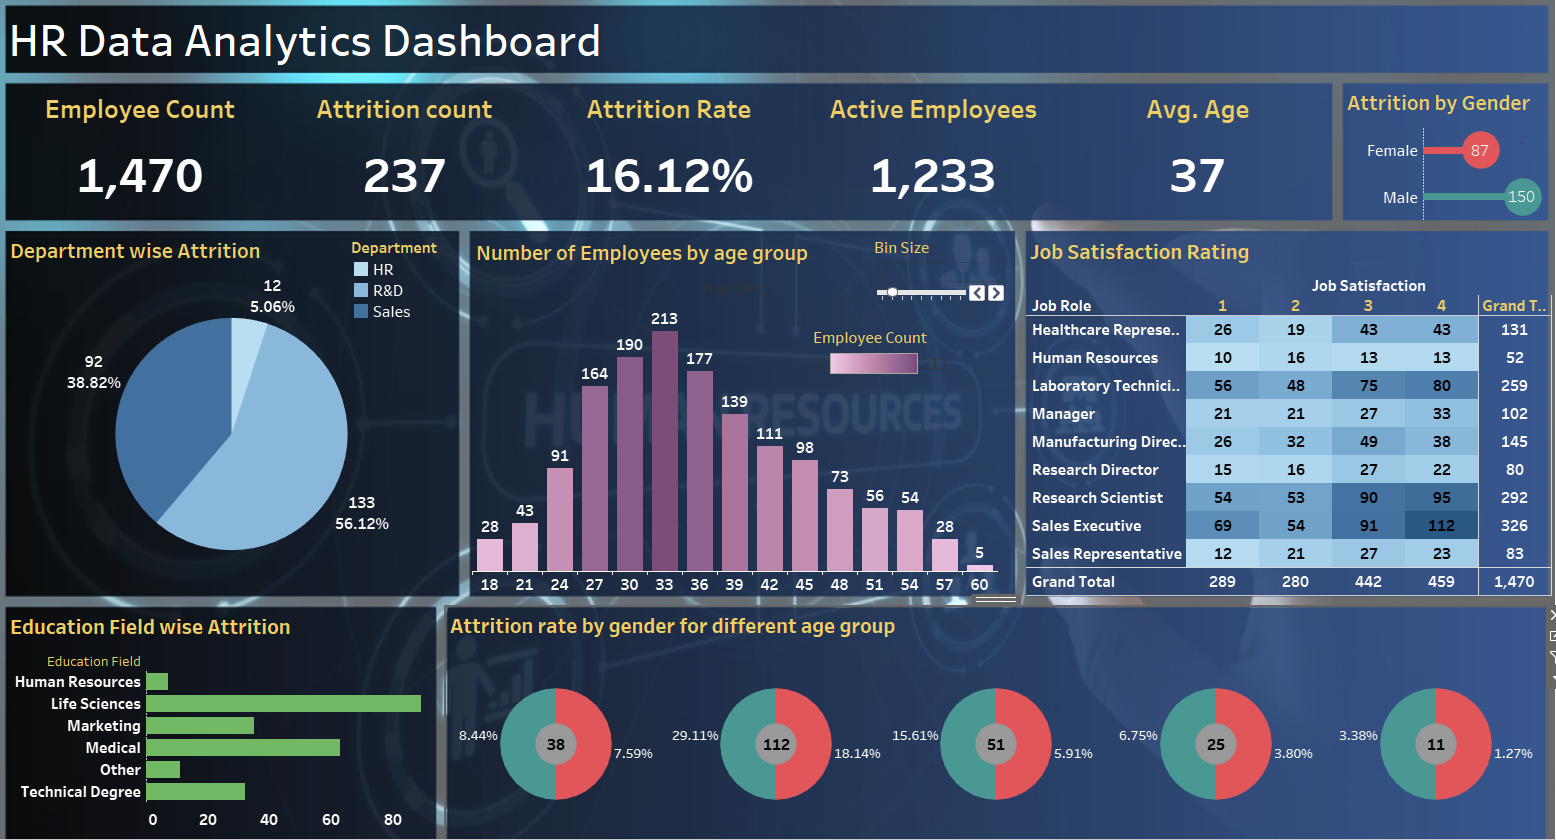

The dashboard page shown, as its layout file describes it:
{"tool":"tableau","page":{"name":"Dashboard 1","canvas":[1580,900],"ordinal":0},"visuals":[{"type":"image","param":"C:/Users/mdabu/Downloads/HR background.pptx.png","box":[8,8,1564,884]},{"type":"text","box":[18,19,1541,65]},{"type":"worksheet","title":"Attrition by gender","mark":"Automatic","rows":["Gender"],"cols":["Calculation_430656729114947584","Calculation_430656729114947584"],"box":[1356,97,204,136]},{"type":"worksheet","title":"KPI","mark":"Automatic","box":[21,98,1322,135]},{"type":"legend","title":"Attrition by gender","param":"[federated.17lfsri08ja5i61fhfss50i6c548].[none:Gender:nk]","box":[1532,147,12,9]},{"type":"worksheet","title":"Department wise Attrition","mark":"Pie","box":[19,245,451,361]},{"type":"worksheet","title":"Job Satisfaction Rating","mark":"Square","rows":["Job Role"],"cols":["Job Satisfaction"],"box":[1039,246,526,363]},{"type":"worksheet","title":"Number of Employees by age group","mark":"Automatic","rows":["Employee Count"],"cols":["Age (bin)"],"box":[485,247,526,362]},{"type":"legend","title":"Department wise Attrition","param":"[federated.17lfsri08ja5i61fhfss50i6c548].[none:Department:nk]","box":[364,250,102,90]},{"type":"parameter","param":"[Parameters].[Parameter 1]","box":[887,250,133,71]},{"type":"legend","title":"Number of Employees by age group","param":"[federated.17lfsri08ja5i61fhfss50i6c548].[sum:Employee Count:qk]","box":[826,340,140,88]},{"type":"worksheet","title":"Attrition rate by gender for different age group","mark":"Pie","rows":["Calculation_448389652779257857","Calculation_448389652779257857"],"cols":["CF_age band"],"box":[459,620,1100,260]},{"type":"worksheet","title":"Education Field wise Attrition","mark":"Automatic","rows":["Education Field"],"cols":["Calculation_430656729114947584"],"box":[19,621,430,260]}]}

Visuals, with their boxes in screenshot pixels (x1, y1, x2, y2):
image: (left=0, top=0, right=1490, bottom=838)
text: (left=9, top=6, right=1477, bottom=68)
"Attrition by gender" worksheet: (left=1284, top=80, right=1478, bottom=210)
"KPI" worksheet: (left=12, top=81, right=1272, bottom=210)
"Attrition by gender" legend: (left=1452, top=128, right=1463, bottom=136)
"Department wise Attrition" worksheet (Pie marks): (left=10, top=221, right=440, bottom=565)
"Job Satisfaction Rating" worksheet (Square marks): (left=982, top=222, right=1483, bottom=568)
"Number of Employees by age group" worksheet: (left=454, top=223, right=955, bottom=568)
"Department wise Attrition" legend: (left=339, top=226, right=436, bottom=312)
parameter: (left=837, top=226, right=964, bottom=294)
"Number of Employees by age group" legend: (left=779, top=312, right=912, bottom=396)
"Attrition rate by gender for different age group" worksheet (Pie marks): (left=429, top=579, right=1477, bottom=826)
"Education Field wise Attrition" worksheet: (left=10, top=580, right=420, bottom=827)
